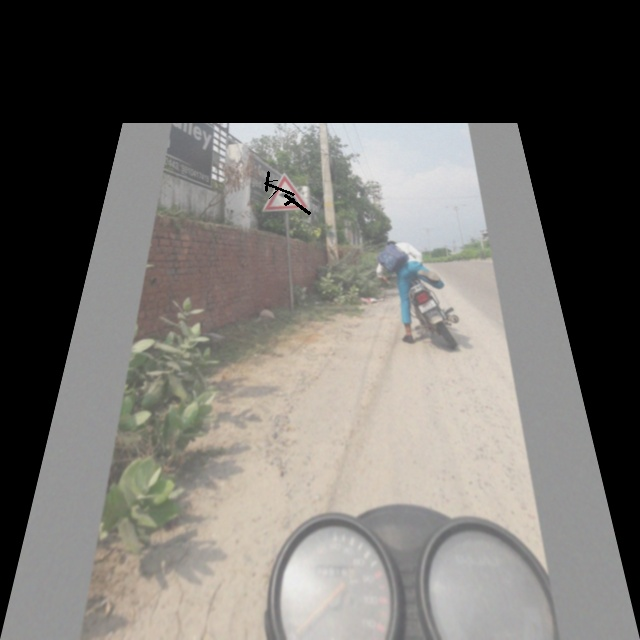Left_Hand_Curve: (259, 172, 311, 215)
